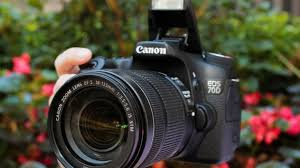camera: (50, 41, 237, 164)
